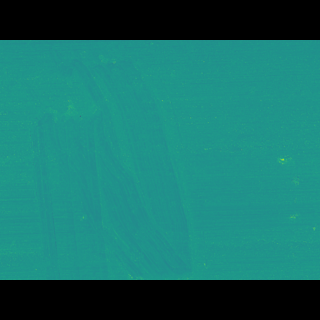Loch: (20, 75, 204, 251)
